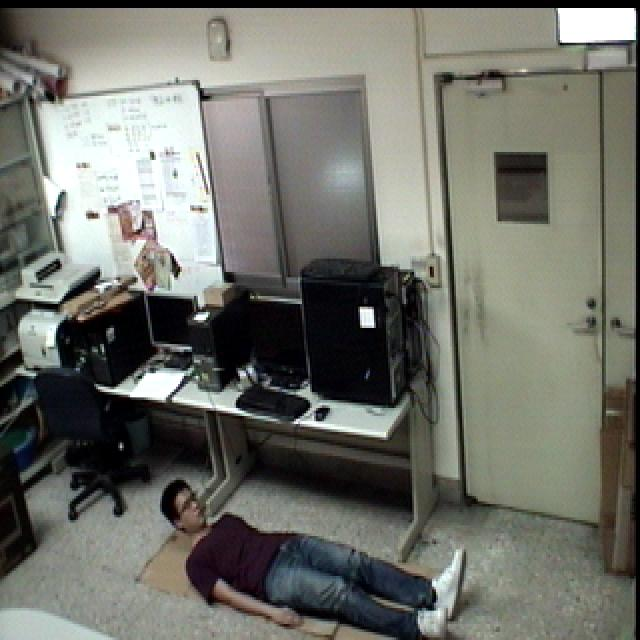lie: (152, 473, 473, 640)
